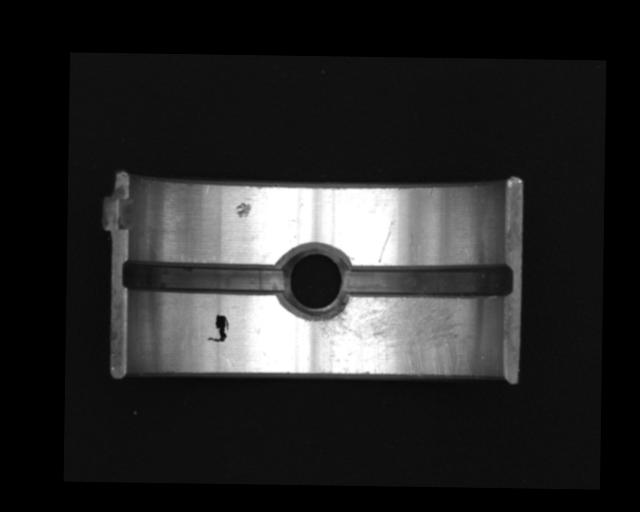blot: (207, 313, 229, 343)
bruise: (234, 202, 252, 218)
gap: (342, 260, 512, 301), (123, 260, 286, 296)
hole: (279, 245, 348, 321)
nick: (377, 221, 394, 264)
scratch: (317, 297, 480, 377)
